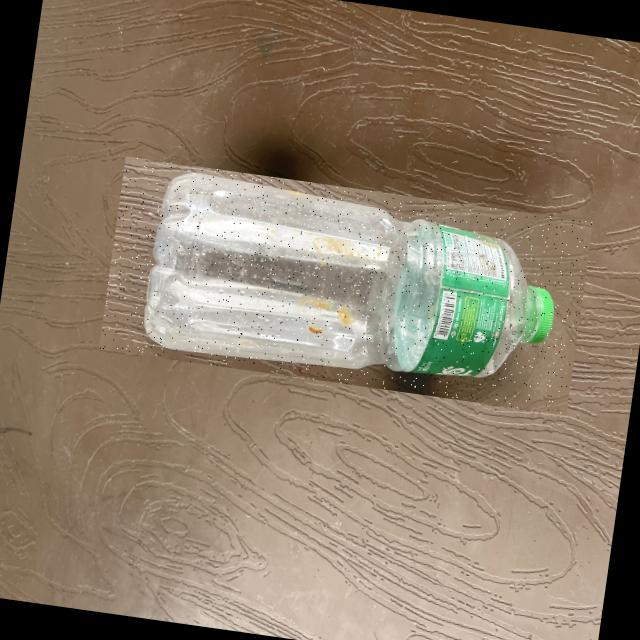REJECT: (98, 155, 593, 414)
